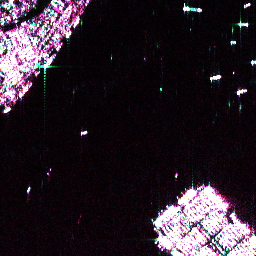ship: (203, 182, 229, 210), (229, 211, 251, 236), (153, 205, 174, 227), (15, 79, 35, 100), (176, 186, 198, 205), (154, 235, 172, 251), (41, 52, 56, 70), (181, 4, 203, 14), (1, 104, 13, 116), (234, 87, 248, 96), (72, 15, 81, 28), (208, 73, 222, 81), (23, 184, 32, 196), (55, 40, 64, 52), (241, 1, 252, 9), (78, 129, 89, 137), (248, 57, 256, 68), (236, 21, 248, 27), (64, 30, 72, 39), (228, 39, 236, 44)
